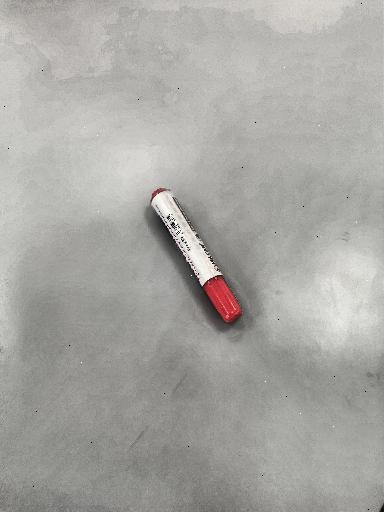marcador rojo: (151, 188, 242, 322)
